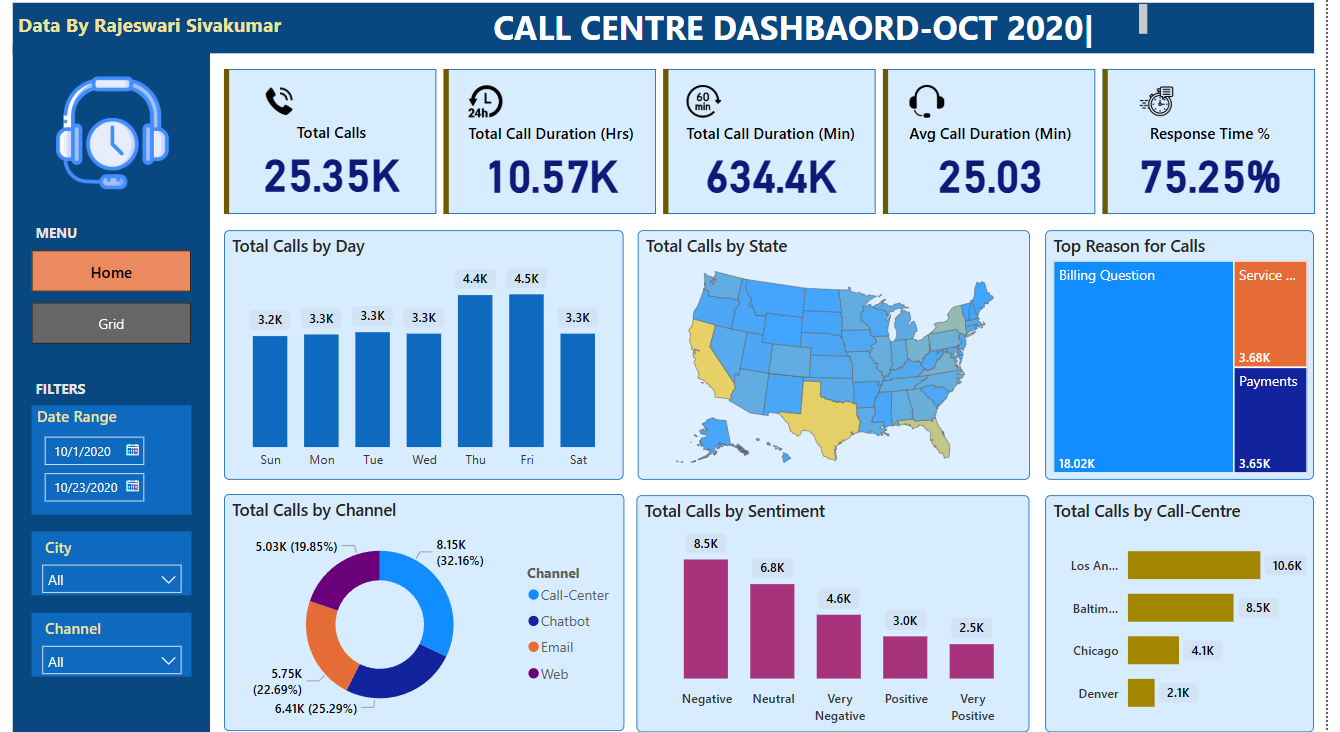

Layout of this report page (visuals, bound fields, positions):
{"tool":"powerbi","page":{"name":"Home","canvas":[1280,720],"ordinal":0},"visuals":[{"type":"cardVisual","fields":{"Data":["Call Center_Call Center.Total Calls","Call Center_Call Center.Total Call Duration (Hrs)","Call Center_Call Center.Total Call Duration (Min)","Call Center_Call Center.Avg Call Duration (Min)","Call Center_Call Center.Response Time %"]},"box":[212.8,67.1,1063.6,150],"z":0},{"type":"shape","box":[13,49.2,190.6,663.5],"z":1000},{"type":"shape","box":[13,8.5,1256.1,48.8],"z":2000},{"type":"textbox","box":[428.3,4.8,685.3,59.1],"z":3000},{"type":"columnChart","title":"Total Calls by Day","fields":{"Category":["Date Table.Day name"],"Y":["Call Center_Call Center.Total Calls"]},"box":[217.5,228.1,385.8,240.5],"z":4000},{"type":"donutChart","fields":{"Category":["Call Center_Call Center.Channel"],"Y":["Call Center_Call Center.Total Calls"]},"box":[216.9,483.1,386.7,228.5],"z":5000},{"type":"treemap","title":"Top Reason for Calls","fields":{"Group":["Call Center_Call Center.Reason"],"Values":["Call Center_Call Center.Total Calls"]},"box":[1009.9,228.1,259.1,240.5],"z":6000},{"type":"barChart","title":"Total Calls by Call-Centre","fields":{"Category":["Call Center_Call Center.Call-Centres City"],"Y":["Call Center_Call Center.Total Calls"]},"box":[1009.9,483.8,259.1,228.9],"z":7000},{"type":"shapeMap","fields":{"Category":["Call Center_Call Center.State"],"Value":["Call Center_Call Center.Total Calls"]},"box":[616,228.1,378.8,240.5],"z":8000},{"type":"columnChart","fields":{"Category":["Call Center_Call Center.Sentiment"],"Y":["Call Center_Call Center.Total Calls"]},"box":[615.8,483.4,379,229],"z":9000},{"type":"slicer","title":"   Date Range","fields":{"Values":["Date Table.Date"]},"box":[31.5,396.8,154.5,105.7],"z":10000},{"type":"slicer","fields":{"Values":["Call Center_Call Center.City"]},"box":[31.5,518.8,154.5,61.6],"z":11000},{"type":"slicer","fields":{"Values":["Call Center_Call Center.Channel"]},"box":[31.5,596.6,154.5,61.6],"z":12000},{"type":"image","box":[49,74.8,119.7,118.5],"z":13000},{"type":"pageNavigator","box":[31.5,246.7,154.5,90.6],"z":14000},{"type":"textbox","box":[30.4,216.5,66.2,30.2],"z":15000},{"type":"textbox","box":[30.4,366.4,91.8,30.2],"z":16000},{"type":"textbox","box":[13.3,12.1,292,41],"z":17000}]}

Visuals, with their boxes in screenshot pixels (x1, y1, x2, y2), scaled from the page's 1280x720 canvas onto the 1340x732 screenshot:
cardVisual - Call Center_Call Center.Total Calls x Call Center_Call Center.Total Call Duration (Hrs): [x1=223, y1=68, x2=1336, y2=221]
shape: [x1=14, y1=50, x2=213, y2=725]
shape: [x1=14, y1=9, x2=1329, y2=58]
textbox: [x1=448, y1=5, x2=1166, y2=65]
"Total Calls by Day" columnChart: [x1=228, y1=232, x2=632, y2=476]
donutChart - Call Center_Call Center.Channel x Call Center_Call Center.Total Calls: [x1=227, y1=491, x2=632, y2=723]
"Top Reason for Calls" treemap: [x1=1057, y1=232, x2=1328, y2=476]
"Total Calls by Call-Centre" barChart: [x1=1057, y1=492, x2=1328, y2=725]
shapeMap - Call Center_Call Center.State x Call Center_Call Center.Total Calls: [x1=645, y1=232, x2=1041, y2=476]
columnChart - Call Center_Call Center.Sentiment x Call Center_Call Center.Total Calls: [x1=645, y1=491, x2=1041, y2=724]
"   Date Range" slicer: [x1=33, y1=403, x2=195, y2=511]
slicer - Call Center_Call Center.City: [x1=33, y1=527, x2=195, y2=590]
slicer - Call Center_Call Center.Channel: [x1=33, y1=607, x2=195, y2=669]
image: [x1=51, y1=76, x2=177, y2=197]
pageNavigator: [x1=33, y1=251, x2=195, y2=343]
textbox: [x1=32, y1=220, x2=101, y2=251]
textbox: [x1=32, y1=373, x2=128, y2=403]
textbox: [x1=14, y1=12, x2=320, y2=54]
